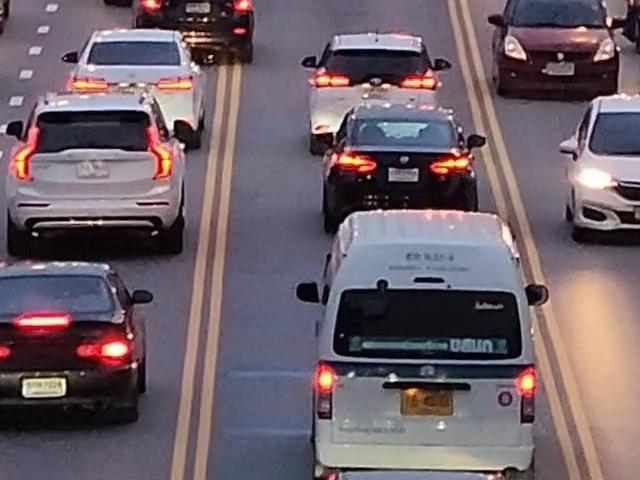car: (0, 88, 203, 248), (0, 268, 170, 435), (297, 95, 513, 222), (306, 27, 447, 160), (83, 20, 229, 148), (479, 0, 636, 108), (563, 91, 640, 248), (140, 0, 261, 72)
motorcycle: (612, 0, 640, 56)
van: (279, 195, 576, 480)
